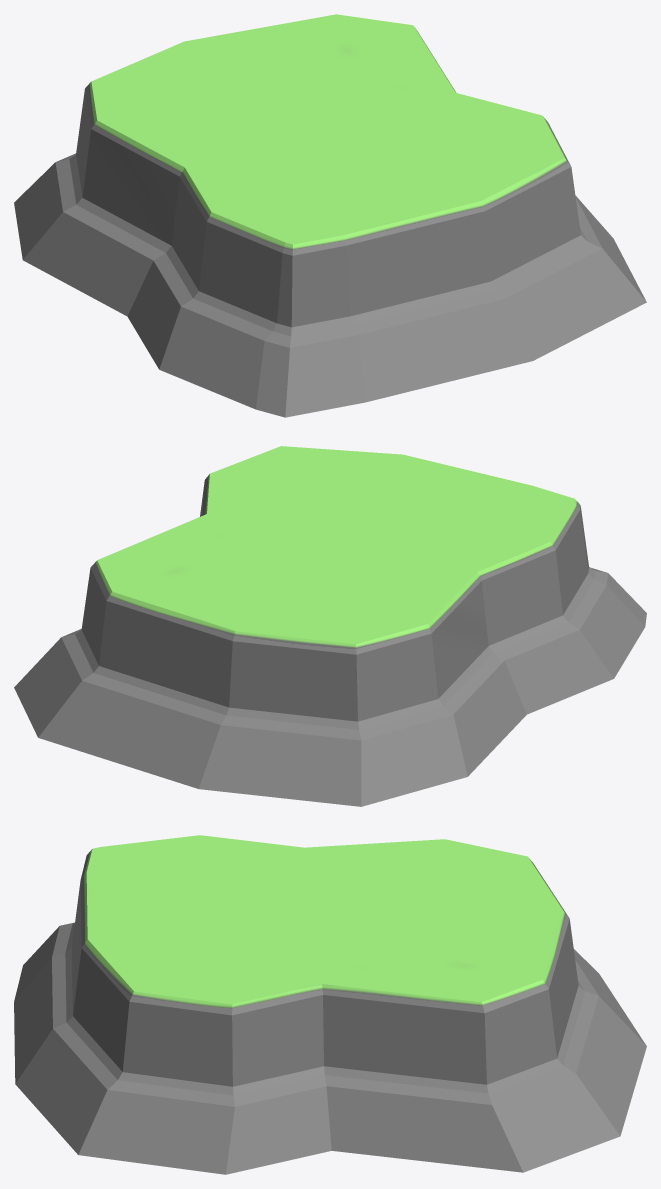
The model's file is Track1.fbx.
The picture shows the model from 3 angles, top to bottom: view 1: azimuth 30°, elevation 25°; view 2: azimuth 150°, elevation 25°; view 3: azimuth 270°, elevation 25°; orthographic projection. The views are drawn at different scales.
Visible parts, largest first — view 1: Plane; view 2: Plane; view 3: Plane.
Boxes of the visible parts, left/top/right/bottom form: Plane: left=14, top=14, right=646, bottom=417; Plane: left=14, top=446, right=646, bottom=806; Plane: left=14, top=835, right=646, bottom=1174.
Bounding box in the file's own units: 135510 × 37402 × 156382.
1 material, 1 textured.
